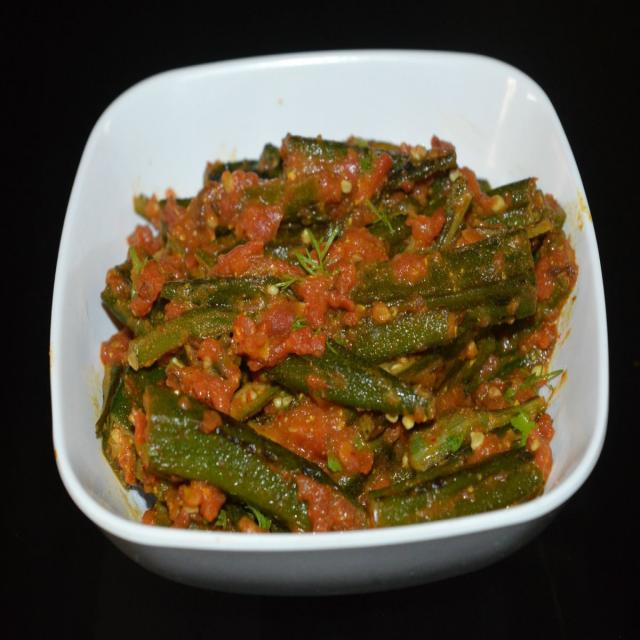Bhindi Masala: (94, 130, 576, 530)
